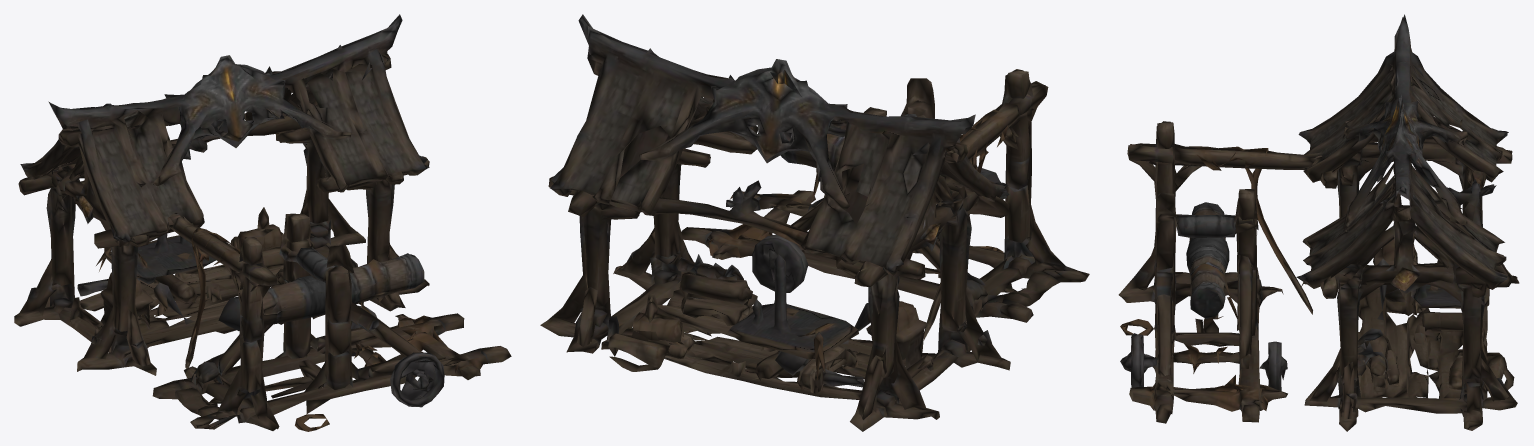
File: siege_workshop.glb
The picture shows the model from 3 angles, left to right: view 1: azimuth 30°, elevation 25°; view 2: azimuth 150°, elevation 25°; view 3: azimuth 270°, elevation 25°; orthographic projection. The views are drawn at different scales.
Visible parts, largest first — view 1: geometry_0; view 2: geometry_0; view 3: geometry_0.
Boxes of the visible parts, left/top/right/bottom form: geometry_0: left=14, top=14, right=511, bottom=431; geometry_0: left=540, top=14, right=1089, bottom=431; geometry_0: left=1118, top=14, right=1519, bottom=431.
Bounding box in the file's own units: 0.9883 × 0.717 × 0.9802.
Materials: 1 (1 with a texture image).
